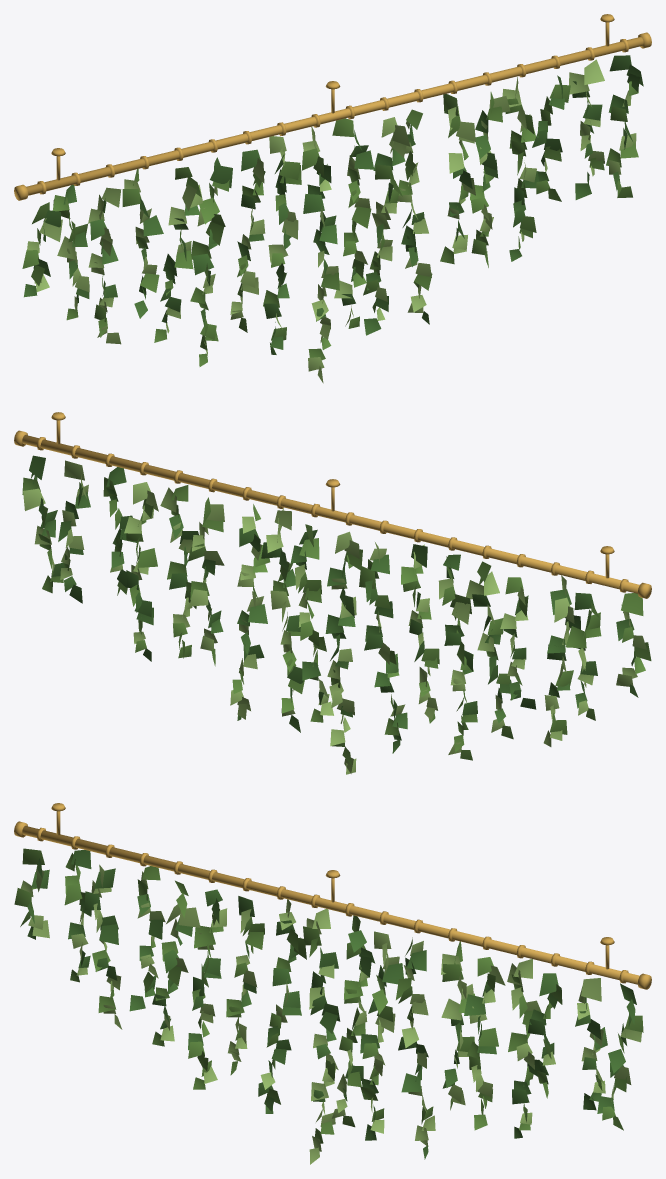
The model's file is pothos_rail.glb.
3 renders of one model, top to bottom at view 1: azimuth 30°, elevation 25°; view 2: azimuth 150°, elevation 25°; view 3: azimuth 330°, elevation 25°, orthographic.
Visible parts, largest first — view 1: Rail; view 2: Rail; view 3: Rail.
Boxes of the visible parts, x1,y1,x2,y2 form: Rail: (26, 37, 643, 195); Rail: (22, 435, 639, 593); Rail: (22, 826, 639, 984).
Size of the model in its own units: 2.78 by 1.23 by 0.2097.
